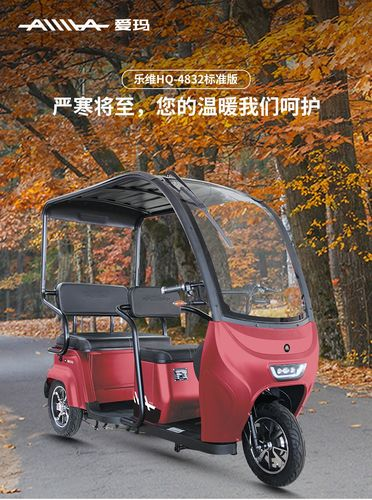empty: (18, 127, 353, 477)
